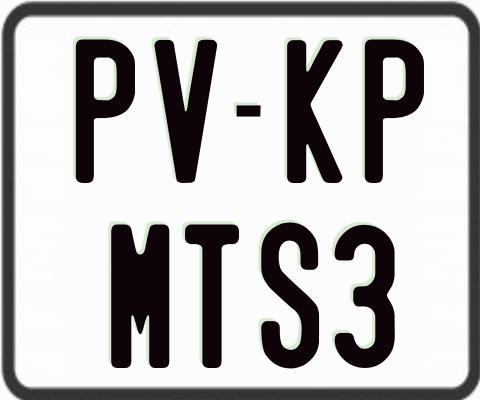3: (332, 225, 396, 371)
K: (287, 40, 347, 185)
M: (108, 223, 169, 367)
P: (362, 39, 426, 185), (76, 37, 139, 182)
S: (259, 221, 319, 367)
T: (185, 223, 243, 367)
V: (152, 39, 221, 187)
